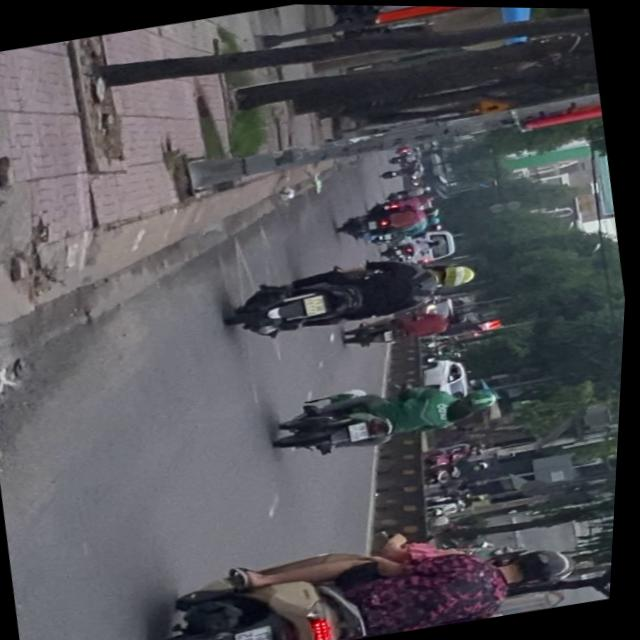helmet: (506, 542, 579, 590), (455, 386, 503, 418), (436, 261, 479, 290)
licenseplate: (144, 503, 590, 640), (224, 240, 485, 349), (271, 364, 508, 467)
nohelmet: (242, 625, 283, 640), (307, 293, 331, 315), (353, 421, 376, 441)
